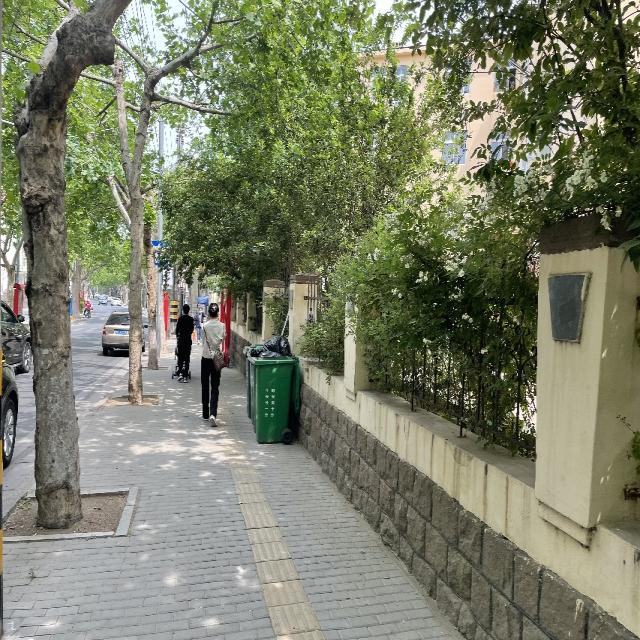overflow: (248, 336, 300, 443)
